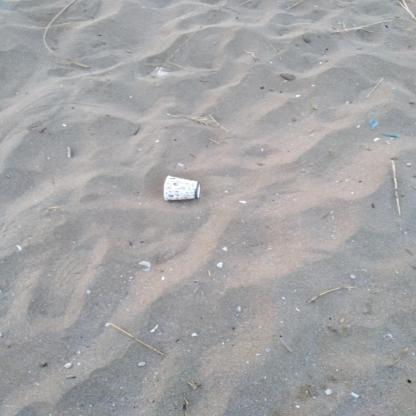karton: (164, 176, 202, 202)
